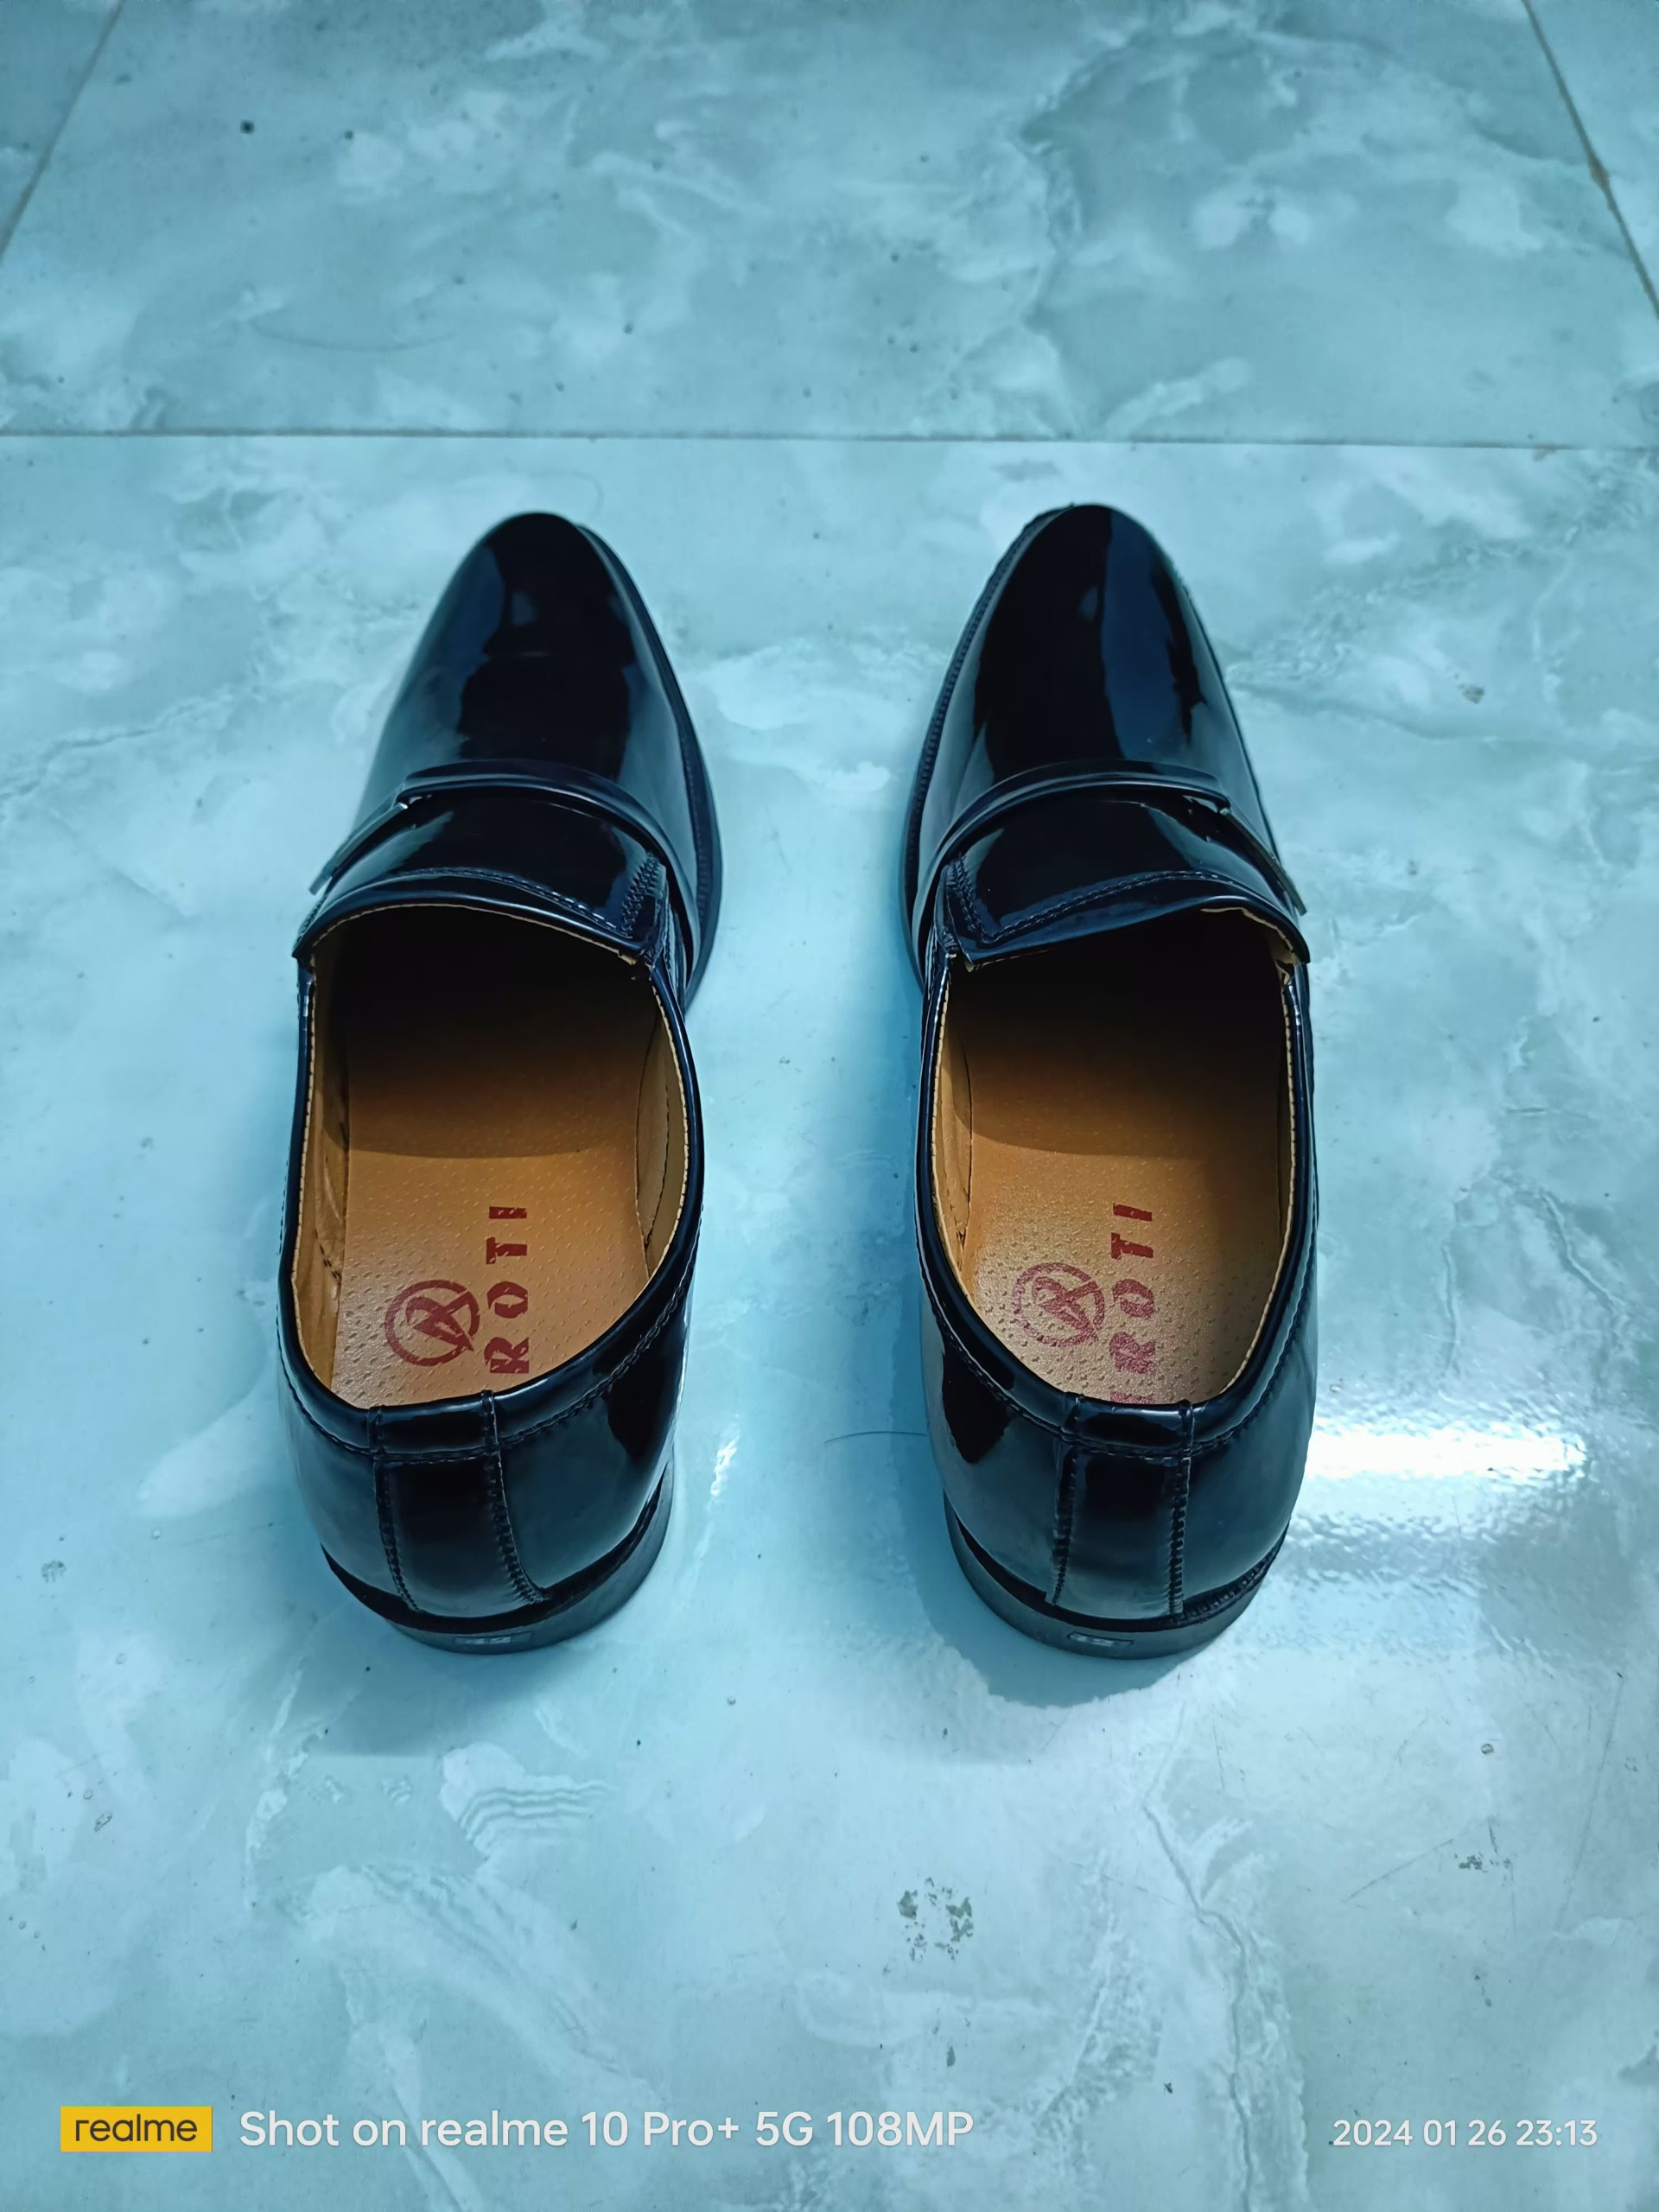loafers: (279, 507, 727, 1663), (887, 500, 1331, 1656)
